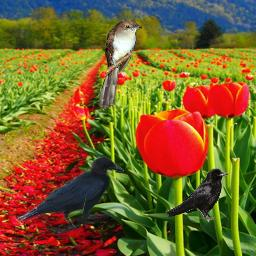Crow: (17, 156, 124, 232), (165, 168, 229, 220)
Cuckoo: (99, 19, 142, 109)
